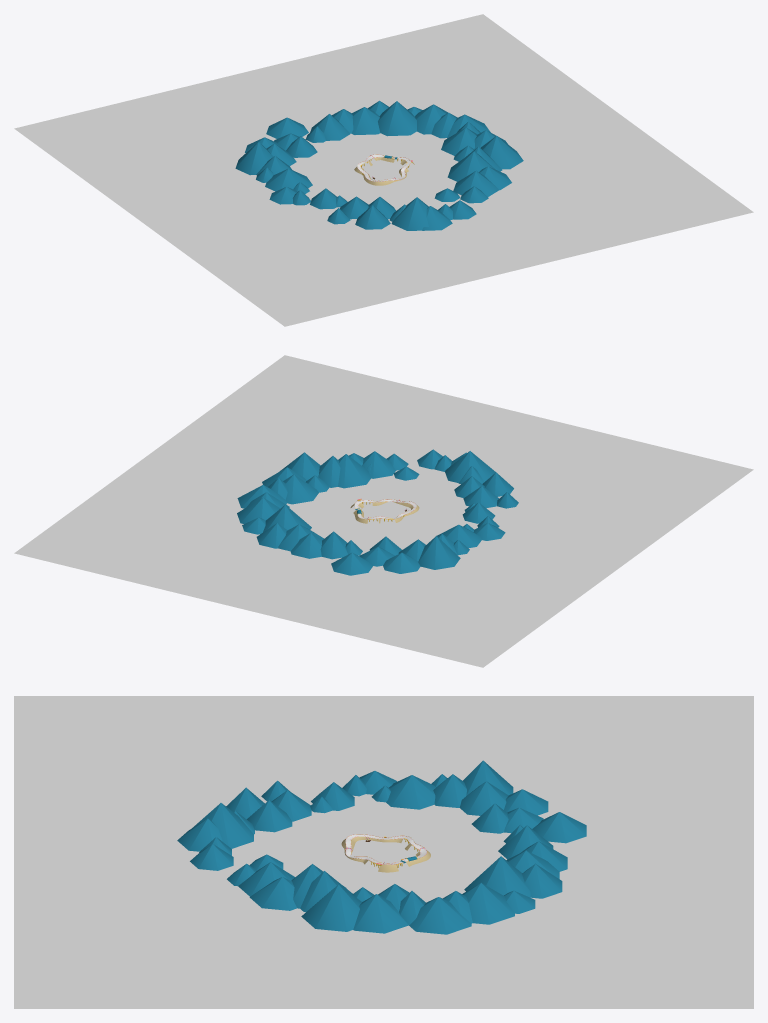
The model's file is bake.glb.
The picture shows the model from 3 angles, top to bottom: view 1: azimuth 30°, elevation 25°; view 2: azimuth 150°, elevation 25°; view 3: azimuth 270°, elevation 25°; orthographic projection. The views are drawn at different scales.
Parts seen in each view (by area): view 1: bk0043, bk0083, bk0057, bk0046, bk0071, bk0048, bk0081, bk0068, bk0051, bk0089, bk0085, bk0076 (+2 smaller); view 2: bk0043, bk0071, bk0057, bk0048, bk0089, bk0076, bk0085, bk0083, bk0051, bk0079, bk0073, bk0078 (+2 smaller); view 3: bk0043, bk0046, bk0087, bk0044, bk0085, bk0083, bk0068, bk0057, bk0076, bk0049, bk0072, bk0082 (+19 smaller).
Boxes of the visible parts, left/top/right/bottom form: bk0043: left=14, top=14, right=753, bottom=326; bk0083: left=378, top=101, right=416, bottom=136; bk0057: left=391, top=197, right=428, bottom=230; bk0046: left=481, top=135, right=523, bottom=169; bk0071: left=235, top=141, right=273, bottom=175; bk0048: left=447, top=151, right=495, bottom=181; bk0081: left=351, top=107, right=380, bottom=134; bk0068: left=265, top=168, right=312, bottom=191; bk0051: left=453, top=171, right=499, bottom=196; bk0089: left=441, top=127, right=477, bottom=155; bk0085: left=415, top=104, right=447, bottom=134; bk0076: left=266, top=117, right=308, bottom=138; bk0043: left=14, top=355, right=753, bottom=667; bk0071: left=418, top=536, right=460, bottom=569; bk0057: left=445, top=451, right=495, bottom=482; bk0048: left=338, top=454, right=370, bottom=488; bk0089: left=283, top=474, right=318, bottom=504; bk0076: left=331, top=552, right=373, bottom=575; bk0085: left=237, top=497, right=280, bottom=523; bk0083: left=263, top=504, right=311, bottom=532; bk0051: left=362, top=451, right=395, bottom=478; bk0079: left=290, top=533, right=322, bottom=558; bk0073: left=383, top=552, right=420, bottom=573; bk0078: left=320, top=531, right=347, bottom=559; bk0043: left=14, top=696, right=753, bottom=1008; bk0046: left=301, top=884, right=361, bottom=931; bk0087: left=409, top=897, right=471, bottom=934; bk0044: left=353, top=894, right=408, bottom=933; bk0085: left=462, top=883, right=514, bottom=924; bk0083: left=464, top=856, right=530, bottom=897; bk0068: left=386, top=775, right=435, bottom=809; bk0057: left=189, top=803, right=253, bottom=848; bk0076: left=532, top=812, right=586, bottom=843; bk0049: left=249, top=877, right=296, bottom=910; bk0072: left=459, top=781, right=508, bottom=815; bk0082: left=522, top=863, right=562, bottom=898.
Size of the model in its own units: 4000 by 204 by 4000.
